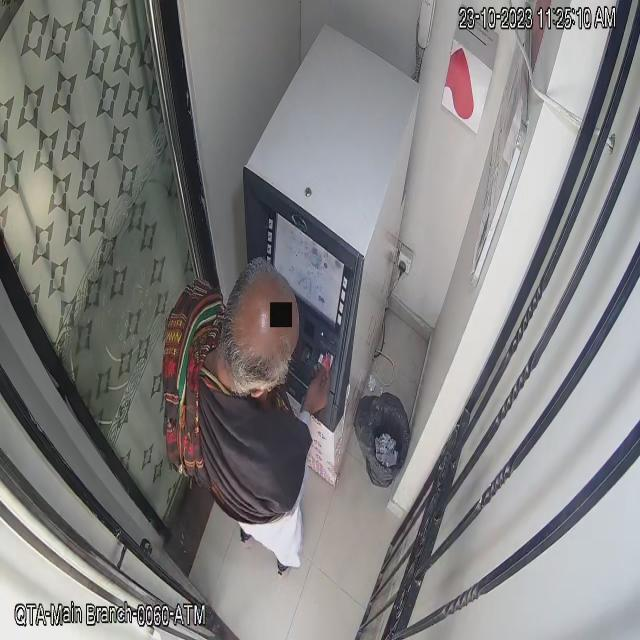atm-card: (316, 342, 339, 376)
